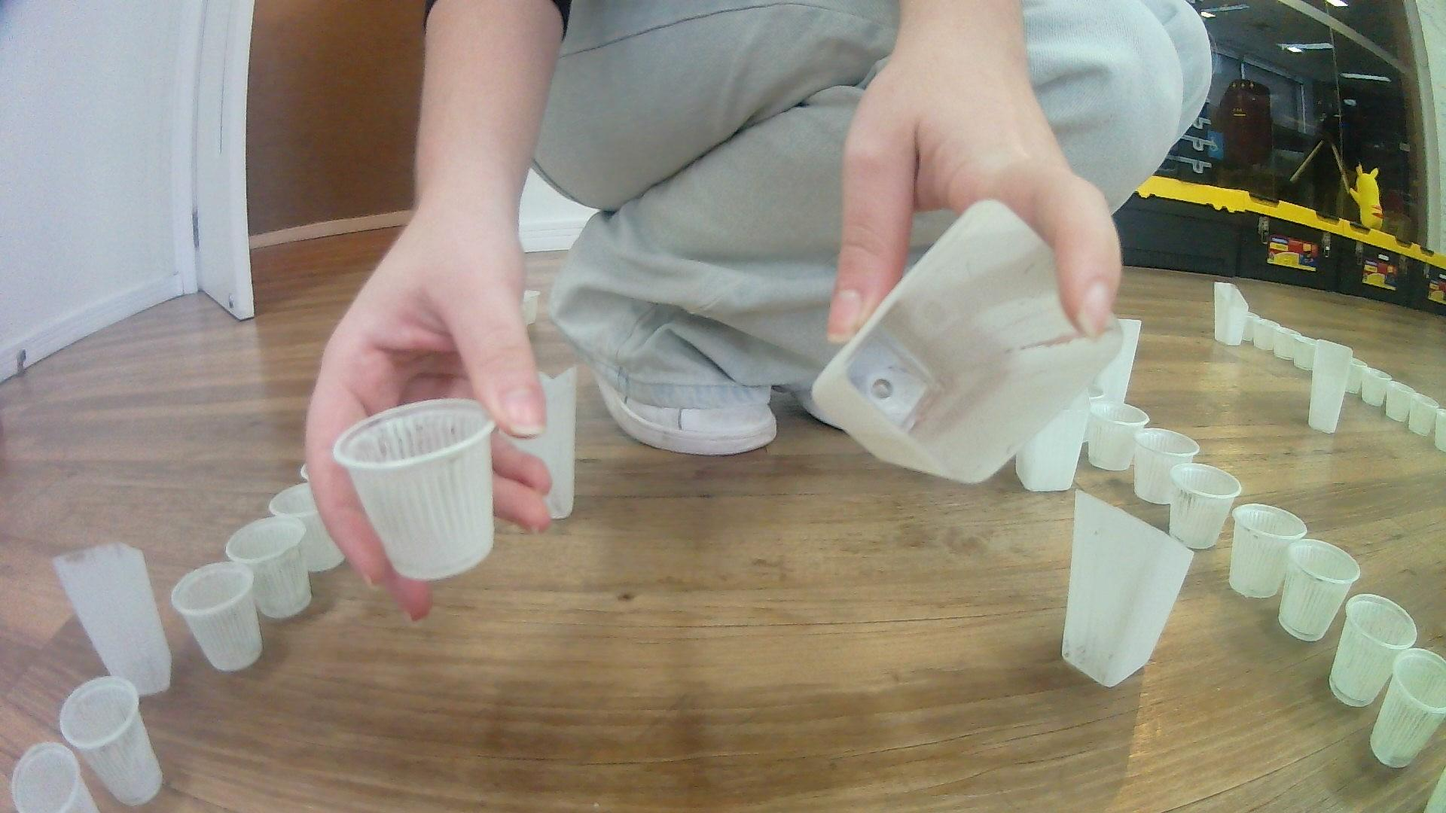erva_daninha: (809, 197, 1128, 486), (1061, 487, 1194, 688), (52, 537, 172, 697), (514, 364, 578, 520), (1014, 403, 1091, 493), (1089, 318, 1142, 407), (1308, 338, 1355, 435), (1213, 281, 1249, 347)
planta: (333, 397, 496, 582), (57, 675, 163, 806), (170, 560, 263, 672), (1328, 592, 1417, 708), (1368, 647, 1446, 769), (224, 515, 314, 620), (1277, 538, 1361, 642), (1227, 503, 1307, 598), (268, 481, 345, 574), (6, 741, 102, 813), (1168, 462, 1242, 549), (1132, 428, 1201, 506), (1088, 402, 1150, 472), (1408, 394, 1440, 437), (1241, 312, 1276, 351), (1361, 368, 1393, 408), (1385, 381, 1416, 422), (1273, 324, 1304, 362), (1291, 333, 1317, 371), (1346, 358, 1368, 394), (520, 288, 541, 325), (1435, 407, 1446, 453)
